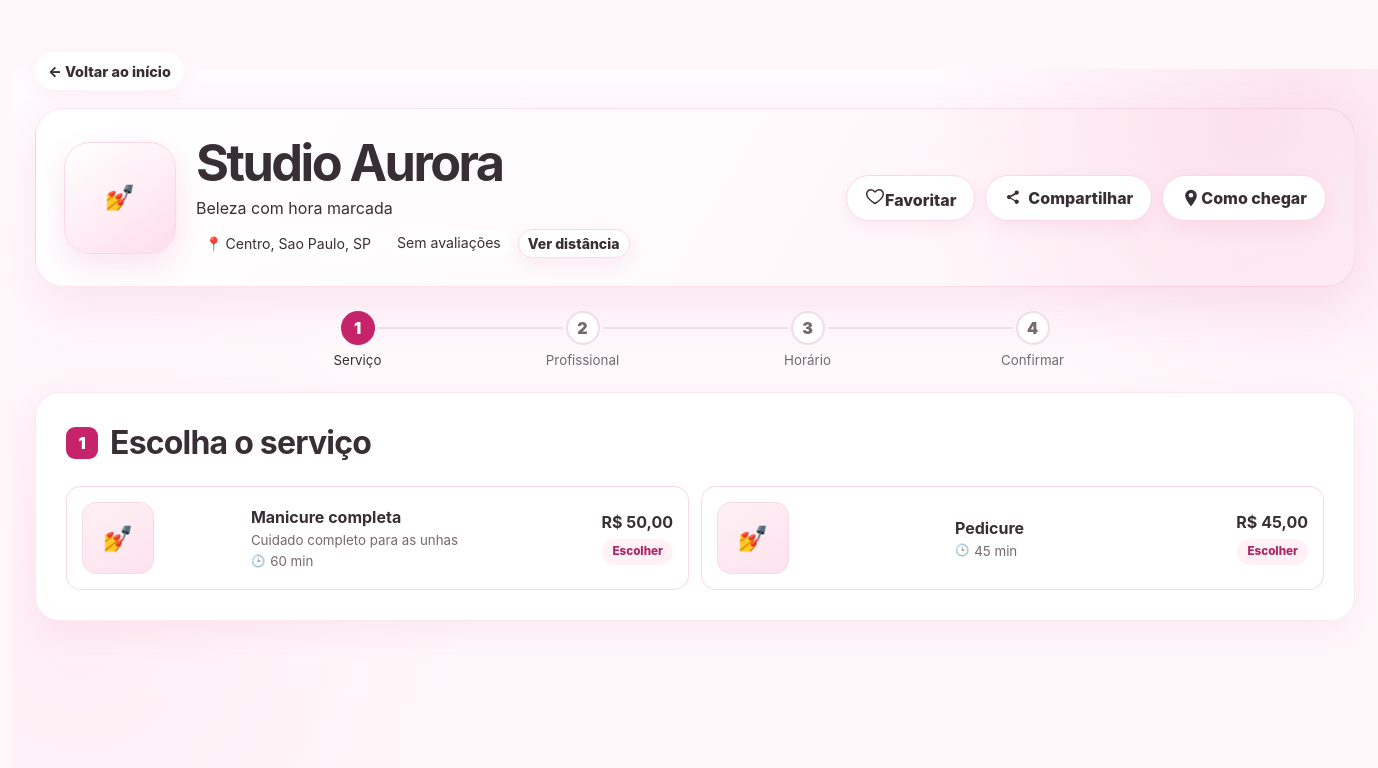
Test: fluxo publico de agendamento › mostra a falha ao favoritar perto da ação
What coordinates should you click on to do the following:
click the button "Favoritar"
I would click on:
 (911, 198)
Its box is [846,175,975,221].
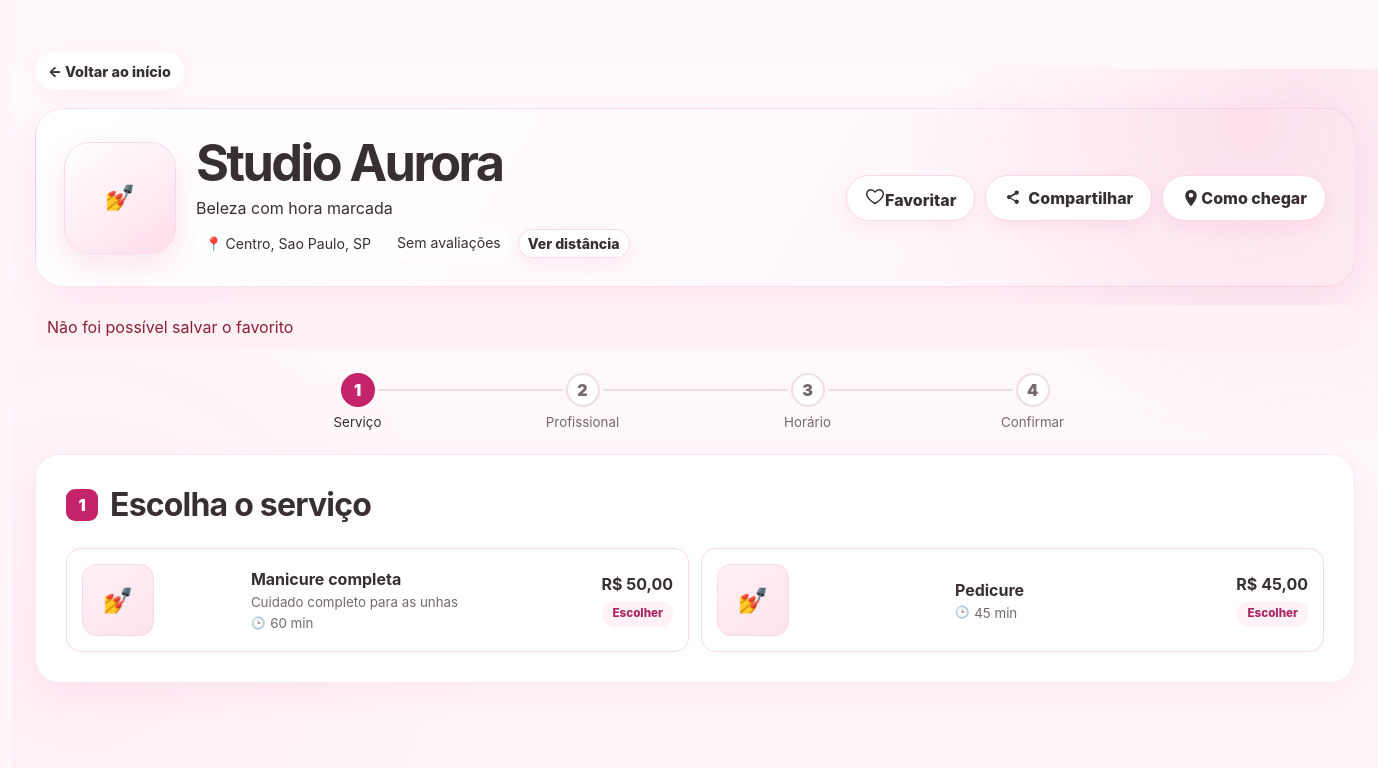
Result: the message reads "Não foi possível salvar o favorito" at [47,317,293,337]
